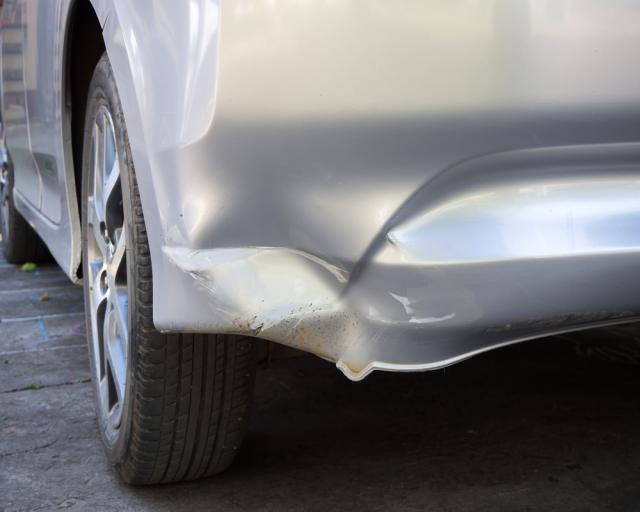dent: (151, 109, 482, 380)
